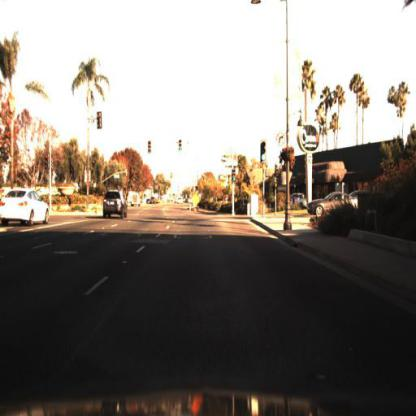car: (1, 189, 51, 229), (304, 191, 363, 220), (101, 190, 128, 222), (291, 189, 311, 214), (130, 190, 142, 213)
trafficLight-Green: (261, 136, 269, 169), (148, 139, 155, 155), (178, 140, 186, 154), (233, 168, 238, 184)
trafficLight-RedLeft: (44, 151, 52, 173), (97, 110, 104, 128)
